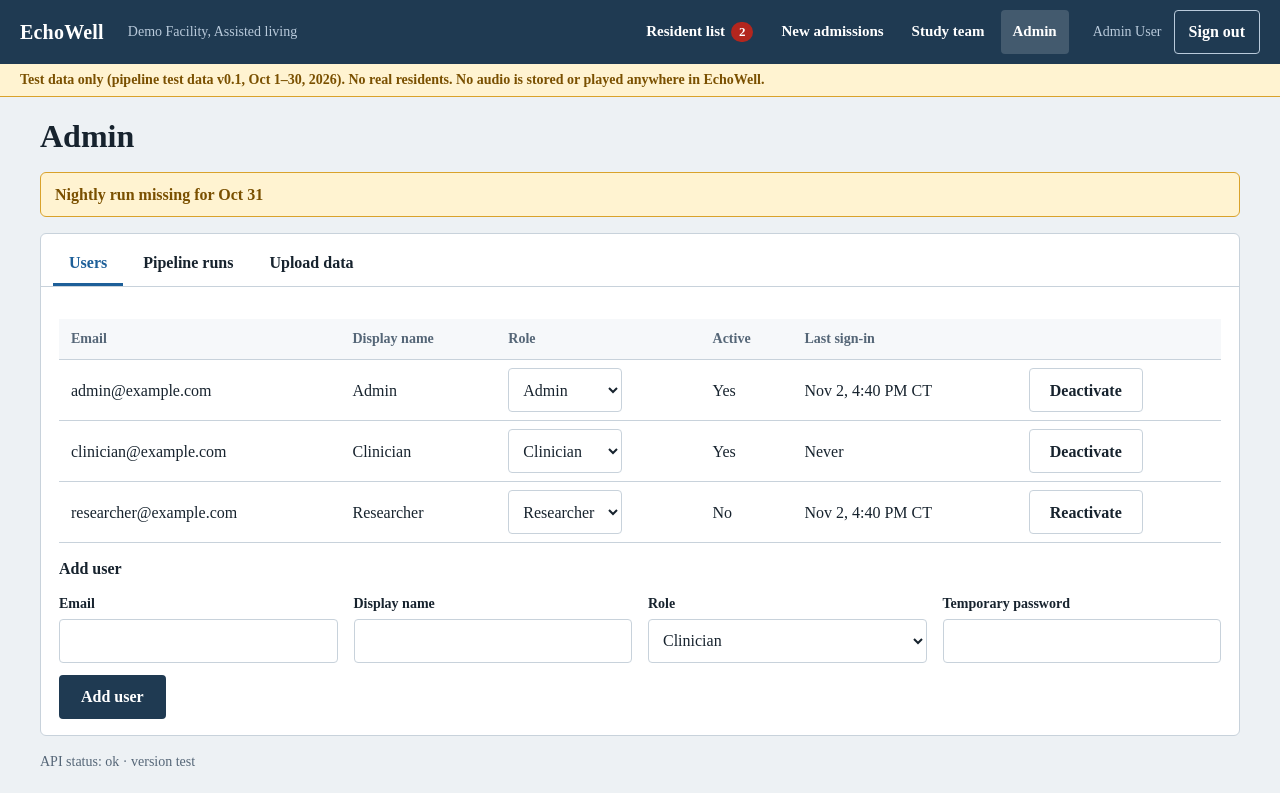
/admin › Users › reactivates, changes a role and shows LAST_ADMIN
The image size is (1280, 793).
Expected: the text "No" is shown, [700,482,792,543]
Click the button with aria-label "Reactivate researcher@example.com" at (1086, 512), box [1029,490,1143,534]
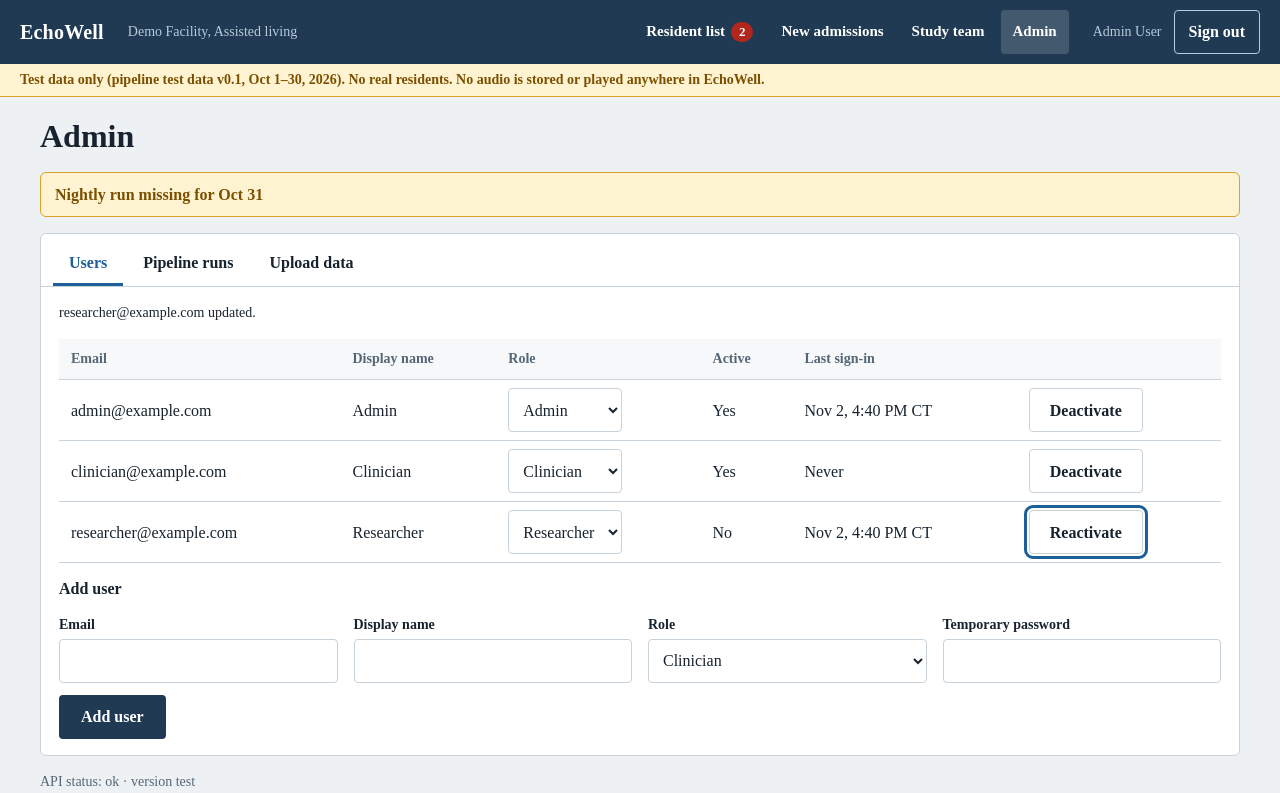
Now the text "researcher@example.com updated." is shown, box [59,305,256,320]
Select "Clinician" in the dropdown named "Role for admin@example.com" at (565, 410), box [508,388,622,432]
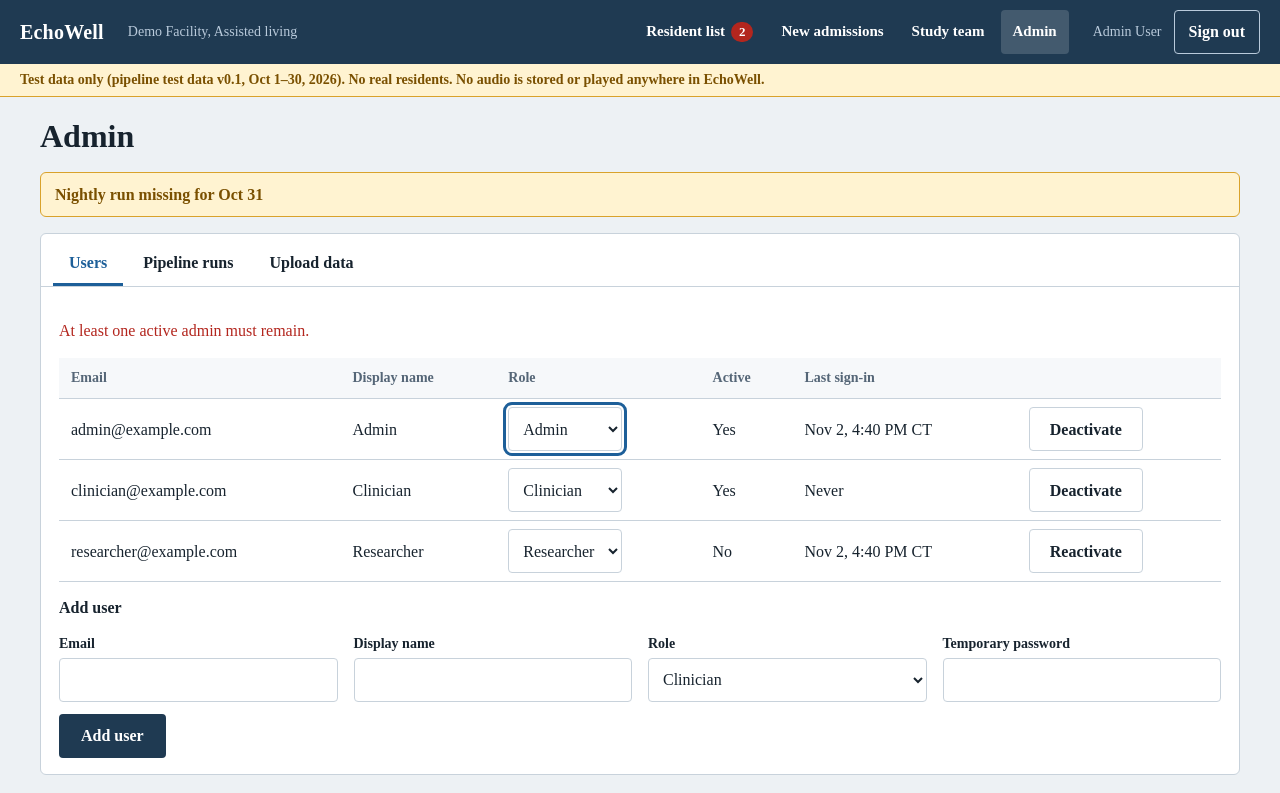
Now the text "At least one active admin must remain." is shown, box [59,322,309,339]
